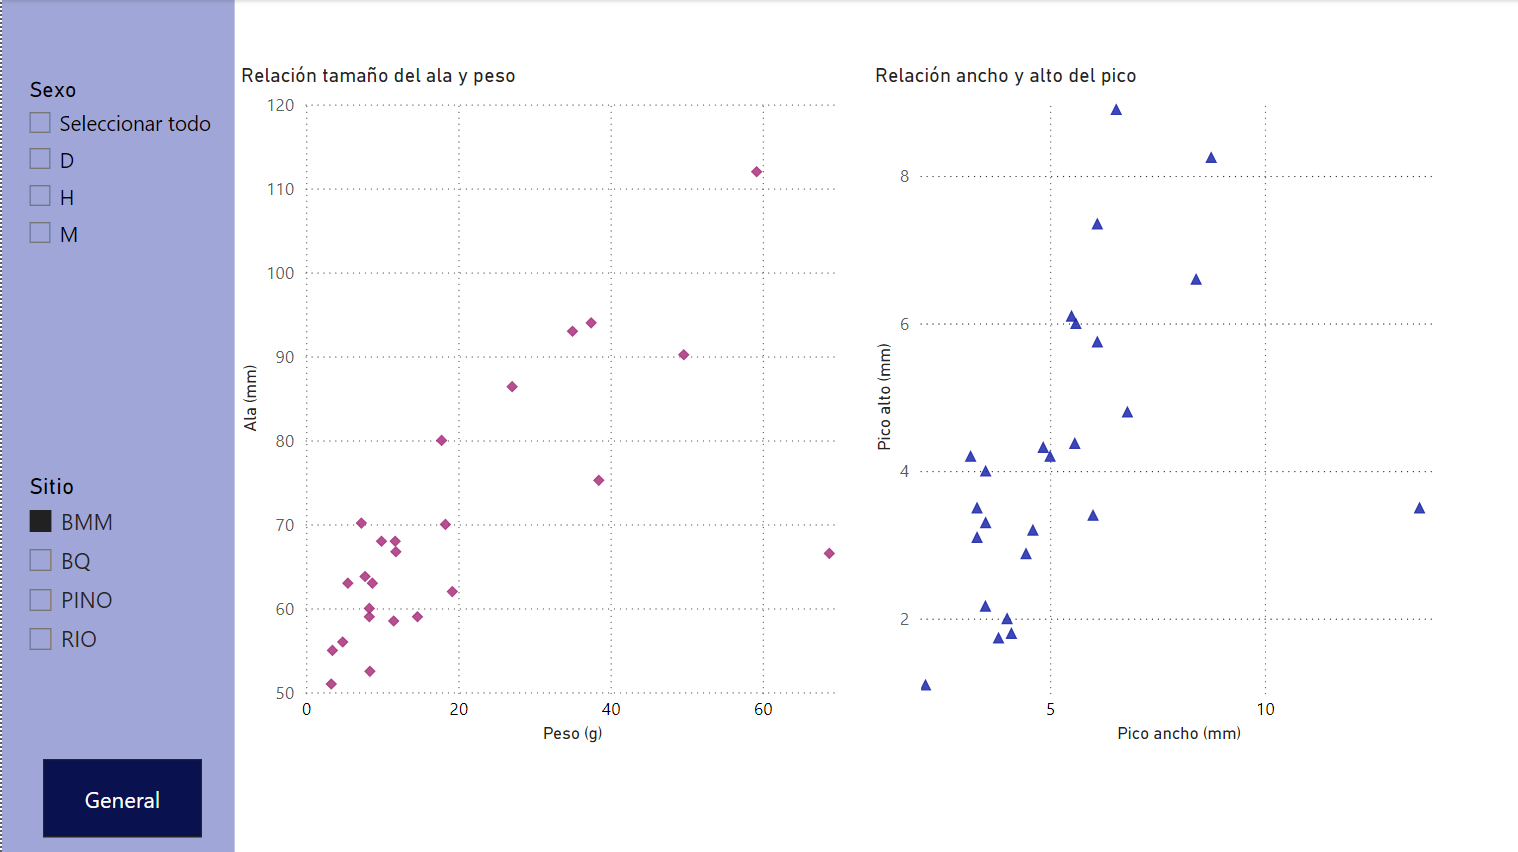

What the dashboard file says about the page in this screenshot:
{"tool":"powerbi","page":{"name":"Relaciones medidas","canvas":[1280,720],"ordinal":1},"visuals":[{"type":"shape","box":[0,0,196.3,719.8],"z":0},{"type":"scatterChart","title":"Relación tamaño  del ala y peso","fields":{"X":["Avg(datosaves3.pesogr)"],"Y":["Avg(datosaves3.alamm)"],"Category":["datosaves3.especie"]},"box":[196.1,52.8,522.1,577.6],"z":1000},{"type":"slicer","fields":{"Values":["datosaves3.sexo"]},"box":[10.5,60.2,174.1,171.5],"z":2000},{"type":"scatterChart","title":"Relación ancho y alto del pico","fields":{"X":["Avg(datosaves3.picoanchomm)"],"Y":["Avg(datosaves3.picoaltomm)"],"Category":["datosaves3.especie"]},"box":[730.7,52.8,491.6,577.6],"z":3000},{"type":"slicer","fields":{"Values":["datosaves3.site"]},"box":[10.5,393.9,158.4,204.2],"z":4000},{"type":"pageNavigator","box":[35,639.5,134.1,66.1],"z":5000}]}

Visuals, with their boxes on the page's 1280x720 design canvas (x1, y1, x2, y2). These are canvas units, not pixel positions in the 1518x852 screenshot, which may show the page scaled, cropped or inside an application window:
shape: 0 0 196 720
"Relación tamaño  del ala y peso" scatterChart: 196 53 718 630
slicer - datosaves3.sexo: 10 60 185 232
"Relación ancho y alto del pico" scatterChart: 731 53 1222 630
slicer - datosaves3.site: 10 394 169 598
pageNavigator: 35 640 169 706
